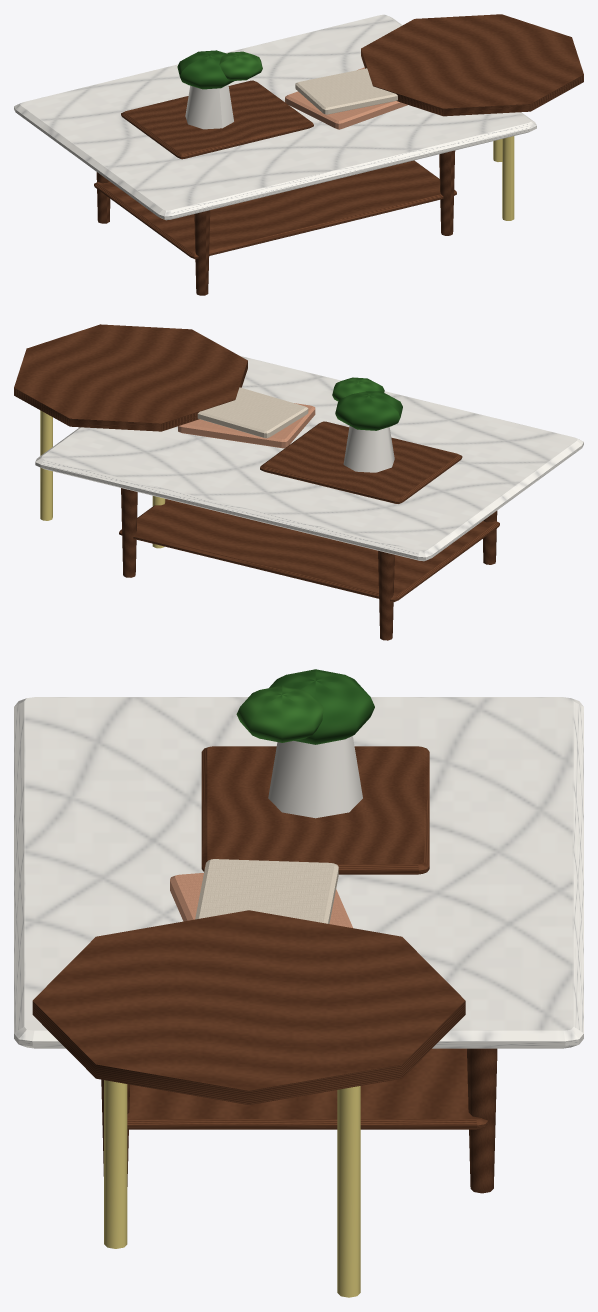
Rendered from coffee_table_set.glb.
3 views of the same model, one above another, from view 1: azimuth 30°, elevation 25°; view 2: azimuth 150°, elevation 25°; view 3: azimuth 270°, elevation 25° (orthographic). The views are drawn at different scales.
Parts seen in each view (by area): view 1: coffee_table_set_woodWalnut, coffee_table_set_marbleCarrara, coffee_table_set_beddingWhite, coffee_table_set_ceramicVase, coffee_table_set_pillowTerra, coffee_table_set_foliageDark, coffee_table_set_metalBrass, coffee_table_set_foliageLight; view 2: coffee_table_set_woodWalnut, coffee_table_set_marbleCarrara, coffee_table_set_beddingWhite, coffee_table_set_foliageDark, coffee_table_set_ceramicVase, coffee_table_set_pillowTerra, coffee_table_set_metalBrass, coffee_table_set_foliageLight; view 3: coffee_table_set_marbleCarrara, coffee_table_set_woodWalnut, coffee_table_set_metalBrass, coffee_table_set_beddingWhite, coffee_table_set_ceramicVase, coffee_table_set_foliageDark, coffee_table_set_foliageLight, coffee_table_set_pillowTerra.
Part boxes in pixels (x1,y1,x2,y2): coffee_table_set_woodWalnut: (94,14,583,295); coffee_table_set_marbleCarrara: (14,14,536,220); coffee_table_set_beddingWhite: (295,68,397,114); coffee_table_set_ceramicVase: (185,84,233,129); coffee_table_set_pillowTerra: (285,67,407,129); coffee_table_set_foliageDark: (177,50,234,89); coffee_table_set_metalBrass: (493,136,514,220); coffee_table_set_foliageLight: (219,51,262,80); coffee_table_set_woodWalnut: (14,324,499,640); coffee_table_set_marbleCarrara: (35,356,583,561); coffee_table_set_beddingWhite: (197,387,308,438); coffee_table_set_foliageDark: (335,391,402,430); coffee_table_set_ceramicVase: (343,426,394,472); coffee_table_set_pillowTerra: (178,403,315,448); coffee_table_set_metalBrass: (40,410,165,548); coffee_table_set_foliageLight: (332,377,384,401); coffee_table_set_marbleCarrara: (14,697,583,1048); coffee_table_set_woodWalnut: (32,746,497,1193); coffee_table_set_metalBrass: (104,1080,360,1297); coffee_table_set_beddingWhite: (195,859,338,923); coffee_table_set_ceramicVase: (268,736,362,818); coffee_table_set_foliageDark: (269,669,374,744); coffee_table_set_foliageLight: (236,685,323,742); coffee_table_set_pillowTerra: (170,873,352,927).
Size of what is drawn, in the model's own units: 1.28 by 0.48 by 0.72.
8 materials, 6 textured.
